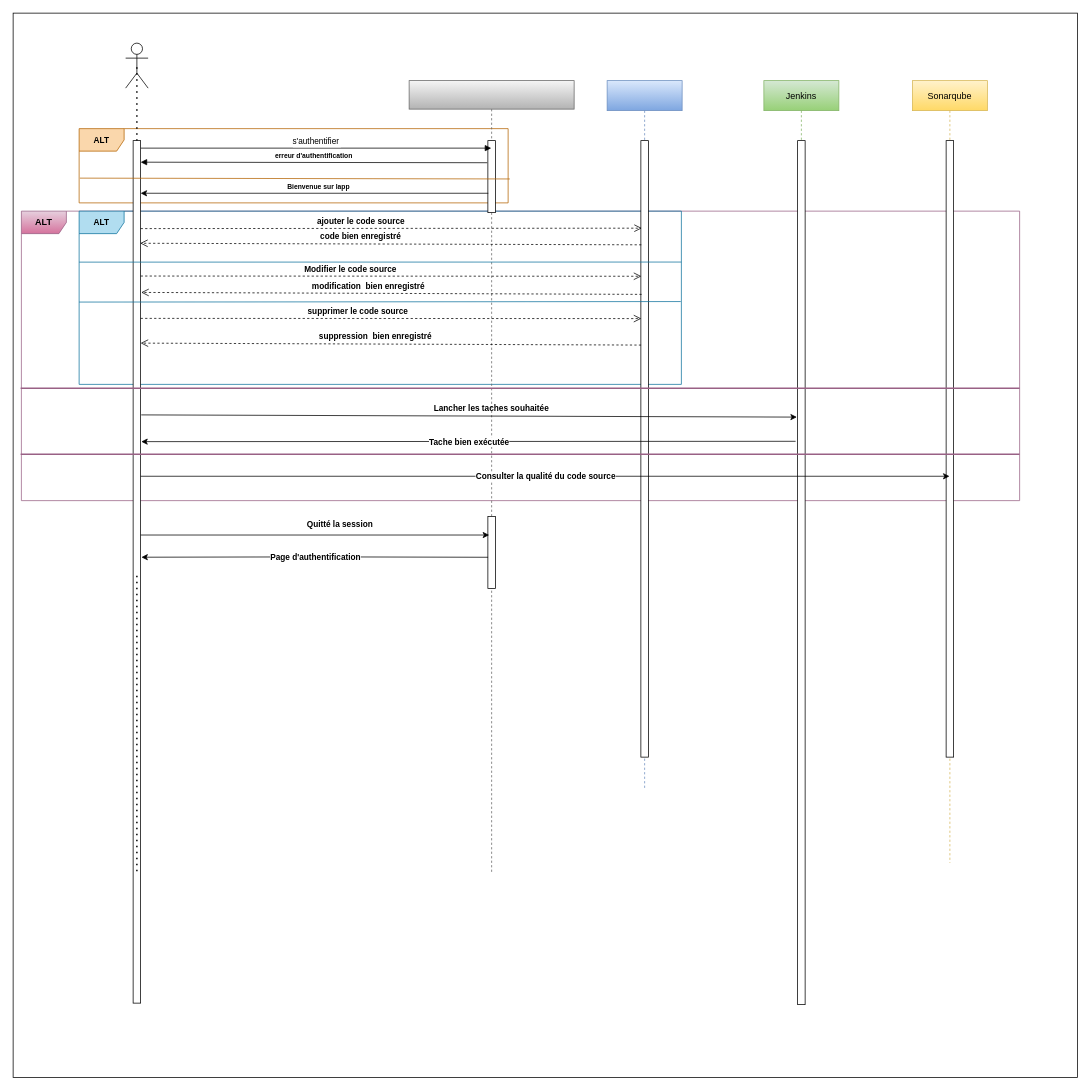
This 1091x1091 diagram has some shape labels left out. Here are the shapes that lost their labels. From the top down, the box of each, then its label:
(125, 42, 148, 88): Developpeur
(606, 80, 682, 789): Gitlab
(408, 80, 574, 873): System
